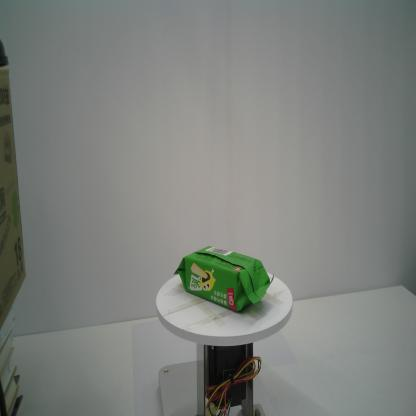Dessert: (174, 244, 277, 316)
